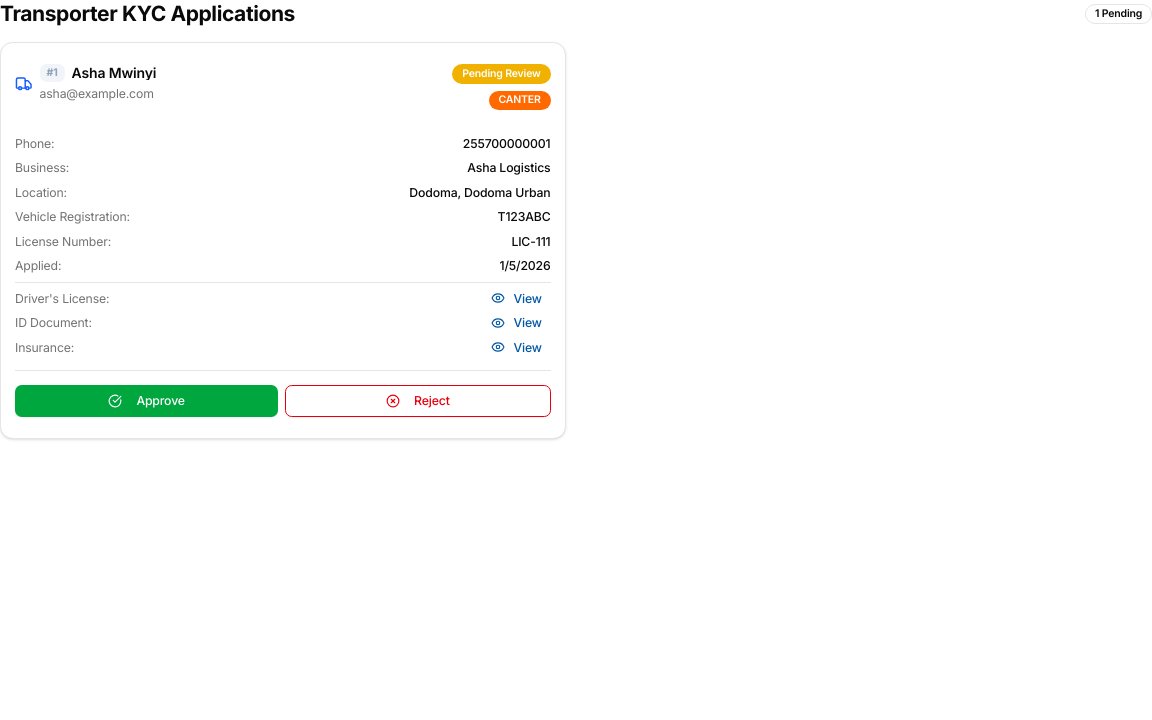
TransporterKYCApprovalTab › rejecting › opens the rejection dialog naming the transporter
The image size is (1152, 720).
Click the button "Reject". click: [418, 401]
box: [285,385,551,416]
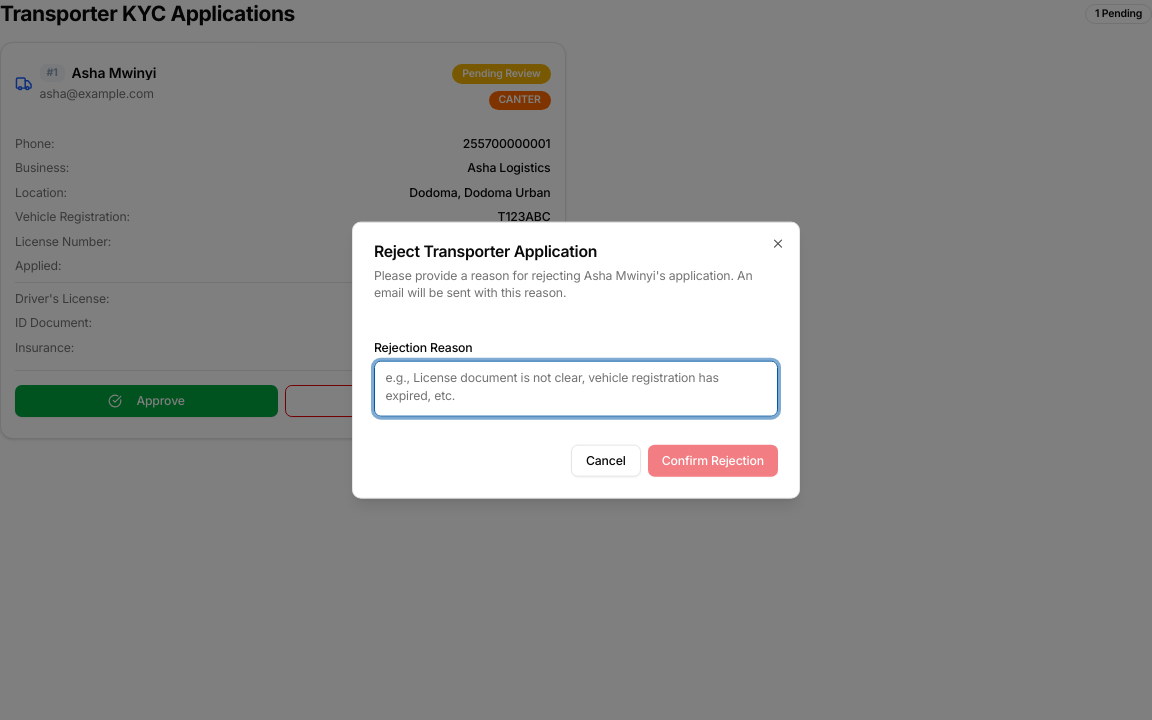
Now the text "Asha Mwinyi's application" is shown, box [374,266,778,301]
